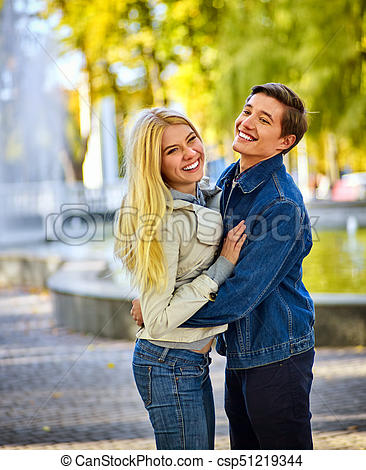bare: (234, 121, 277, 155), (161, 152, 207, 182)
